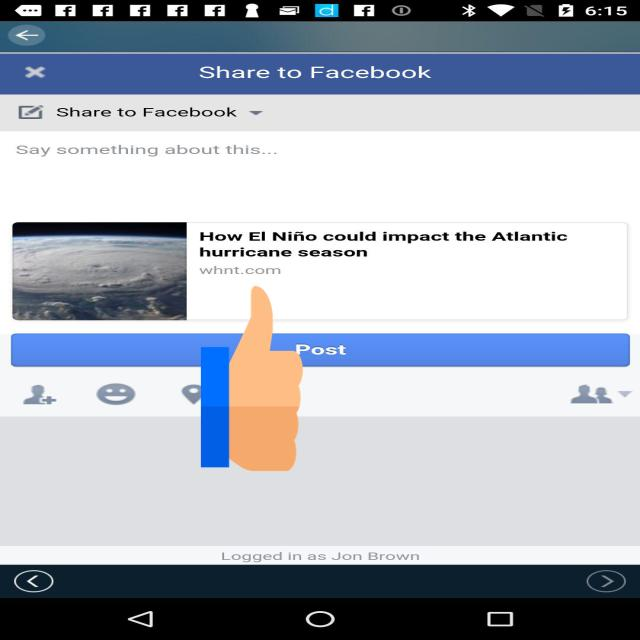privacy zuckering: (201, 281, 303, 476)
